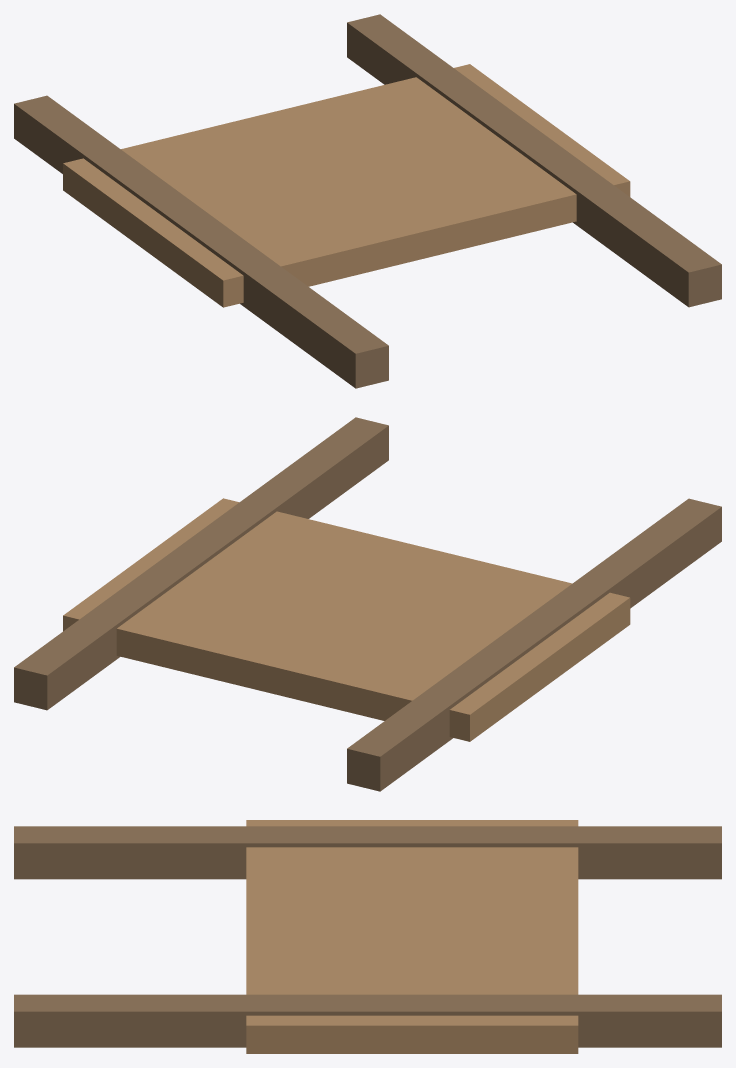
Rendered from quest_notice_board.glb.
3 renders of one model, top to bottom at view 1: azimuth 30°, elevation 25°; view 2: azimuth 150°, elevation 25°; view 3: azimuth 270°, elevation 25°, orthographic. The views are drawn at different scales.
Visible parts, largest first — view 1: board, post_l, post_r; view 2: board, post_l, post_r; view 3: board, post_r, post_l.
Part boxes in pixels (box(x1,y1,x2,y2)): board: box(63, 64, 630, 307); post_l: box(14, 95, 388, 388); post_r: box(347, 14, 721, 307); board: box(63, 498, 630, 741); post_l: box(347, 498, 721, 791); post_r: box(14, 417, 388, 710); board: box(246, 820, 578, 1053); post_r: box(14, 994, 721, 1047); post_l: box(14, 826, 721, 879).
Bounding box in the file's own units: 2.2 × 0.18 × 3.2.
